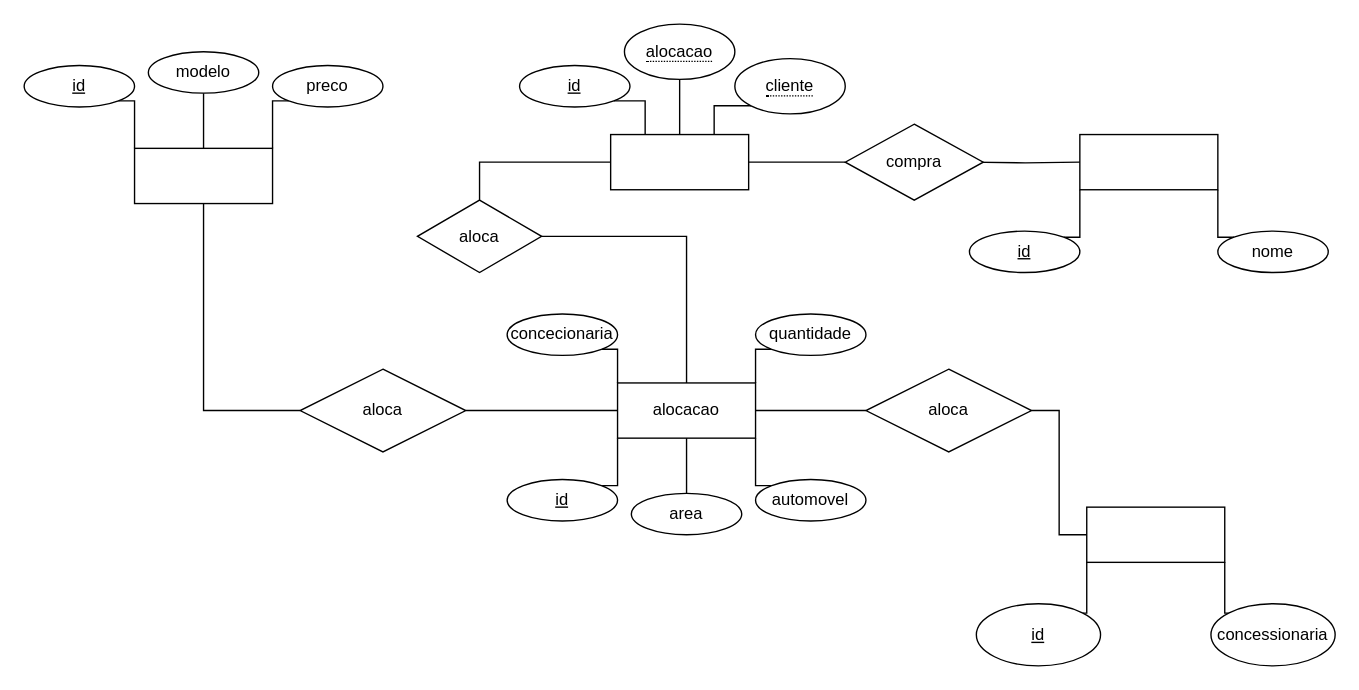
The diagram is 1359 pixels wide and 690 high, and some of its shapes have lost their labels. Each missing label, with the centre of its shape:
"automoveis" belongs at [203,175].
"clientes" belongs at [1148,161].
"concessionarias" belongs at [1155,534].
"venda" belongs at [679,161].
